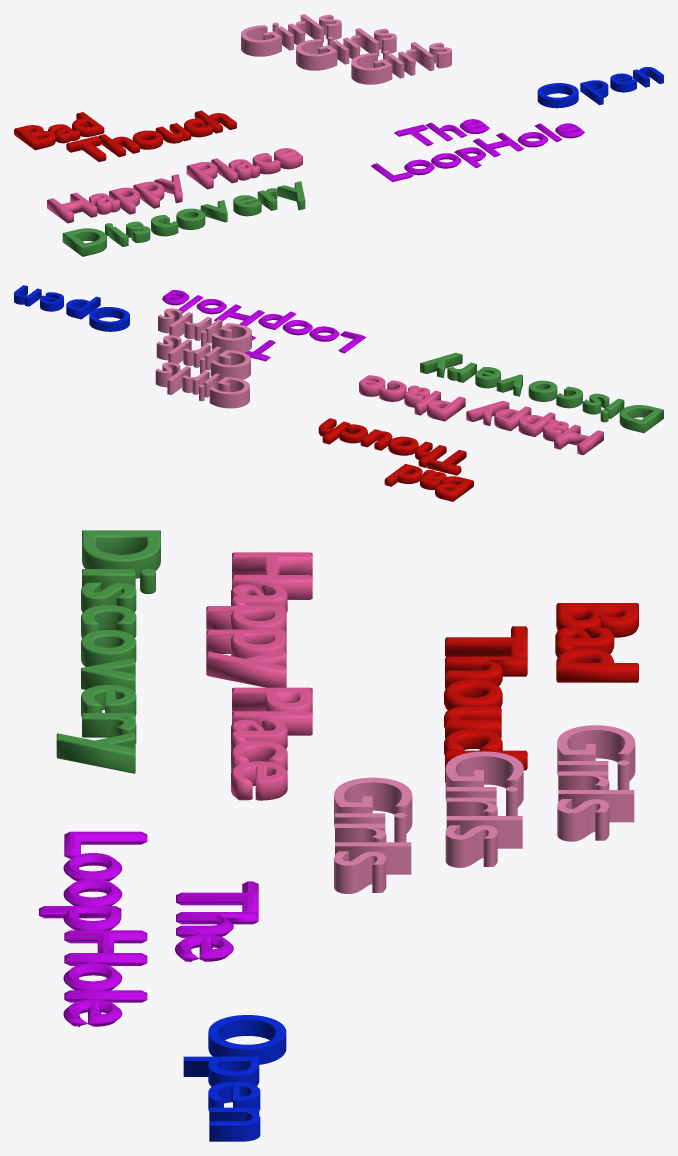
The model's file is Neon.fbx.
3 views of the same model, one above another, from view 1: azimuth 30°, elevation 25°; view 2: azimuth 150°, elevation 25°; view 3: azimuth 270°, elevation 25° (orthographic). The views are drawn at different scales.
Visible parts, largest first — view 1: Girls, Happy, Bad Thouch, Discovery, The Loophole, Open; view 2: Girls, Happy, Discovery, Bad Thouch, The Loophole, Open; view 3: Girls, Happy, The Loophole, Discovery, Bad Thouch, Open.
Boxes of the visible parts, x1,y1,x2,y2 form: Girls: (241,14,451,84); Happy: (47,148,302,223); Bad Thouch: (14,110,236,161); Discovery: (62,181,305,256); The Loophole: (371,119,584,181); Open: (537,67,663,108); Girls: (155,308,251,408); Happy: (359,375,603,455); Discovery: (420,352,663,433); Bad Thouch: (318,418,473,501); The Loophole: (162,290,365,361); Open: (14,285,129,331); Girls: (334,725,635,893); Happy: (206,552,312,800); The Loophole: (39,831,258,1026); Discovery: (56,530,160,773); Bad Thouch: (444,603,638,782); Open: (183,1015,286,1141).
Size of the model in its own units: 1260 by 105 by 538.
